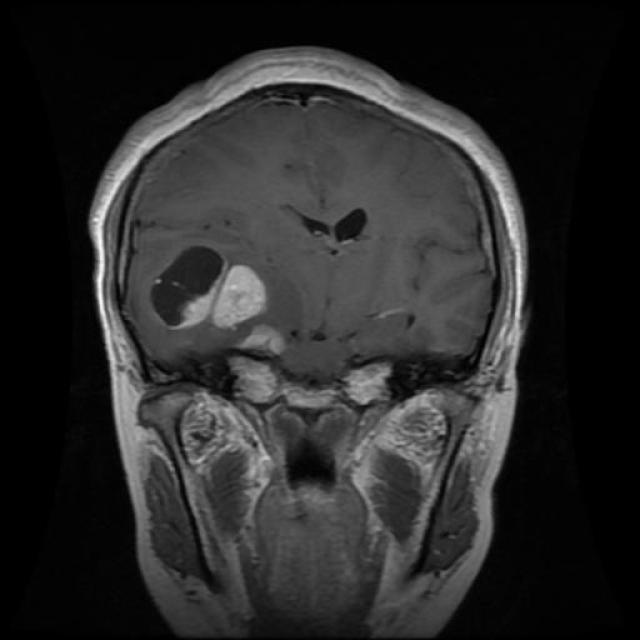meningioma: (151, 248, 268, 330)
